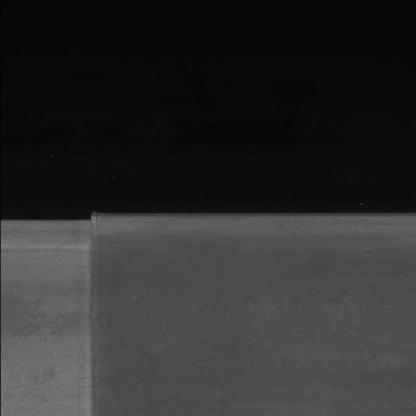welding_line: (74, 209, 106, 416)
